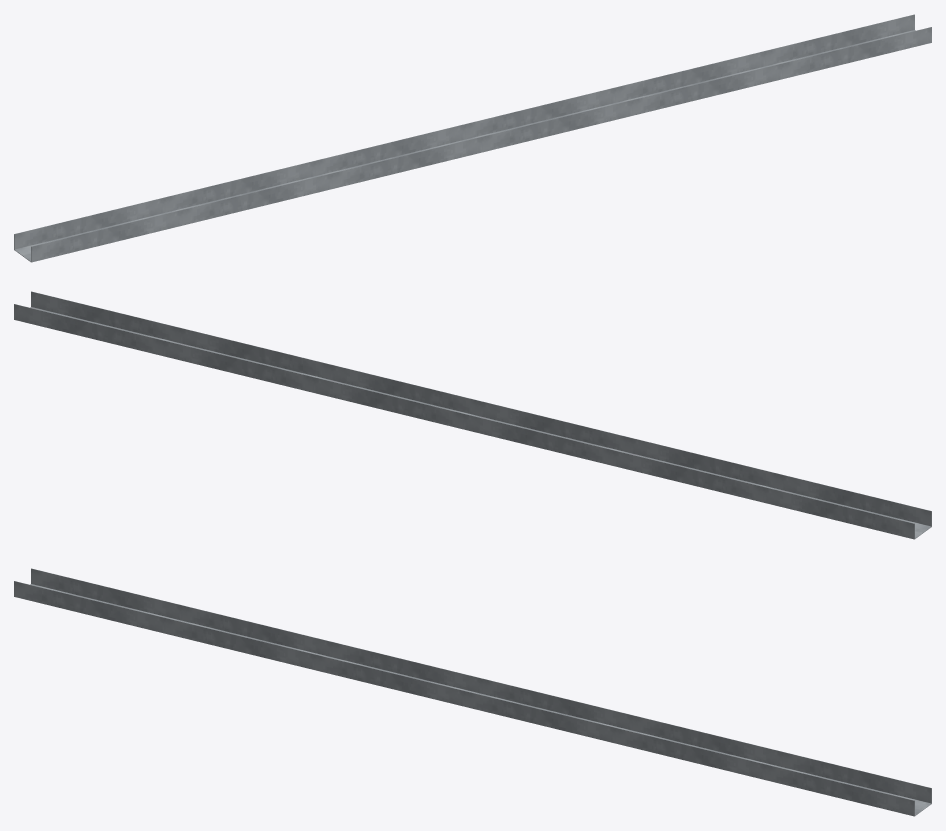
Rendered from ELE-ELD-005_lod1.glb.
The picture shows the model from 3 angles, top to bottom: view 1: azimuth 30°, elevation 25°; view 2: azimuth 150°, elevation 25°; view 3: azimuth 330°, elevation 25°; orthographic projection.
Visible parts, largest first — view 1: ELE-ELD-005_calha; view 2: ELE-ELD-005_calha; view 3: ELE-ELD-005_calha.
Part boxes in pixels (bbox=[...]): ELE-ELD-005_calha: bbox=[14, 14, 931, 262]; ELE-ELD-005_calha: bbox=[14, 291, 931, 539]; ELE-ELD-005_calha: bbox=[14, 568, 931, 816].
Bounding box in the file's own units: 3 × 0.05 × 0.1.
2 materials, 1 textured.
